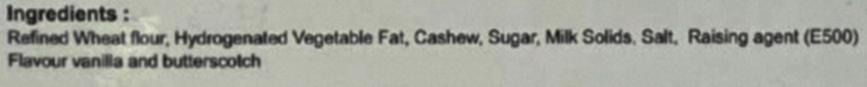ingredients: (0, 3, 867, 82)
